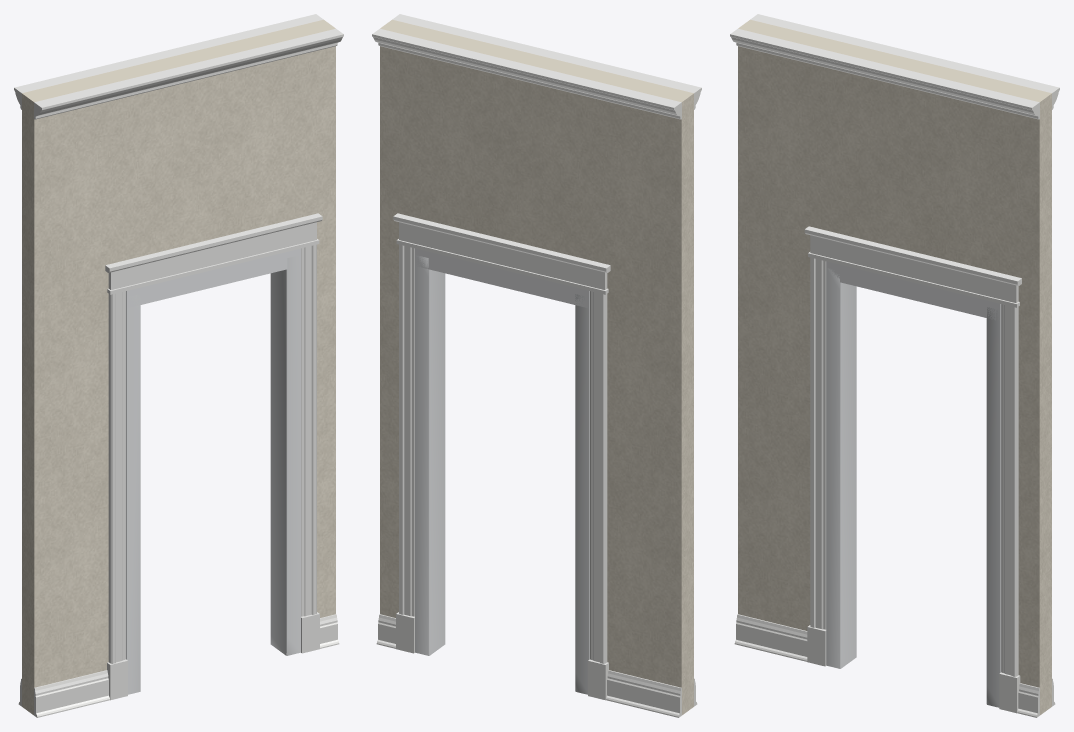
Rendered from interior_wall_end_doorway.glb.
3 renders of one model, left to right at view 1: azimuth 30°, elevation 25°; view 2: azimuth 150°, elevation 25°; view 3: azimuth 330°, elevation 25°, orthographic.
Visible parts, largest first — view 1: interior_wall_end_doorway_plaster, molduras, interior_wall_end_doorway_frame; view 2: interior_wall_end_doorway_plaster, molduras, interior_wall_end_doorway_frame; view 3: interior_wall_end_doorway_plaster, molduras, interior_wall_end_doorway_frame.
Part boxes in pixels (<box>): interior_wall_end_doorway_plaster: <box>22,19,335,715</box>; molduras: <box>14,14,343,717</box>; interior_wall_end_doorway_frame: <box>126,248,300,694</box>; interior_wall_end_doorway_plaster: <box>380,19,693,715</box>; molduras: <box>372,14,701,717</box>; interior_wall_end_doorway_frame: <box>415,248,589,694</box>; interior_wall_end_doorway_plaster: <box>738,19,1051,715</box>; molduras: <box>730,14,1059,717</box>; interior_wall_end_doorway_frame: <box>826,261,1001,707</box>.
Size of the model in its own units: 1.7 by 3.3 by 0.27.
3 materials, 1 textured.
